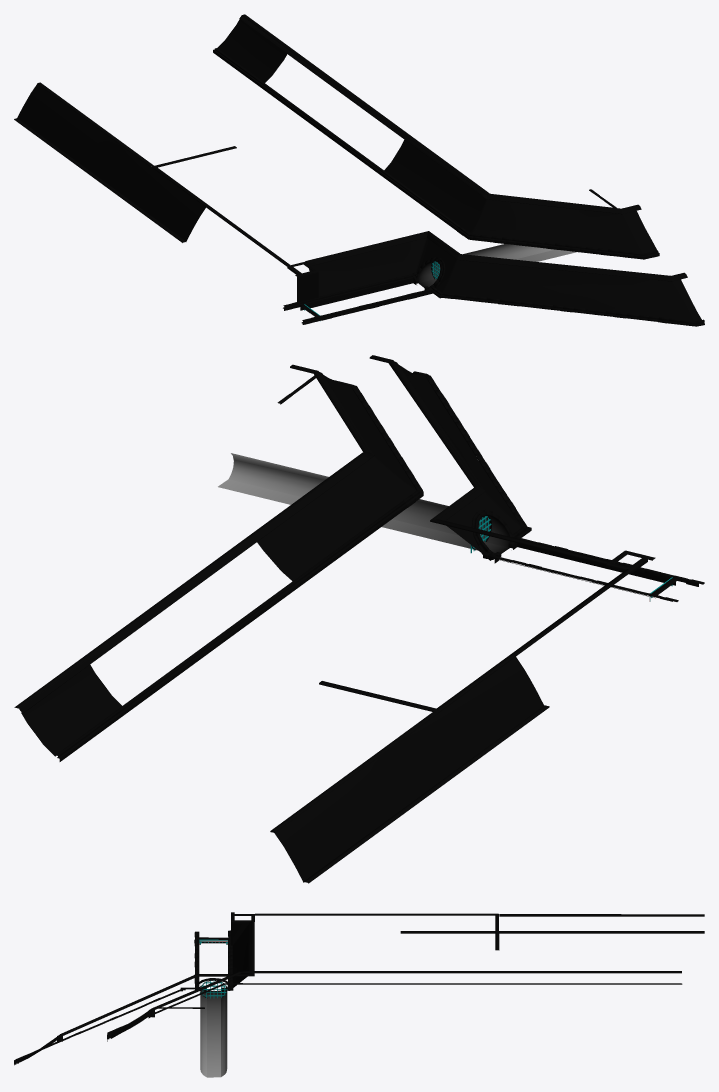
The model's file is SM_ENV_LKNVLD03_Ground_D_02.gltf.
3 views of the same model, one above another, from view 1: azimuth 30°, elevation 25°; view 2: azimuth 150°, elevation 25°; view 3: azimuth 270°, elevation 25° (orthographic). The views are drawn at different scales.
Visible parts, largest first — view 1: SM_ENV_LKNVLD03_Ground_D_02; view 2: SM_ENV_LKNVLD03_Ground_D_02; view 3: SM_ENV_LKNVLD03_Ground_D_02.
Part boxes in pixels (<box>): SM_ENV_LKNVLD03_Ground_D_02: <box>14,14,704,326</box>; SM_ENV_LKNVLD03_Ground_D_02: <box>14,355,704,883</box>; SM_ENV_LKNVLD03_Ground_D_02: <box>14,912,704,1077</box>.
Bounding box in the file's own units: 71.07 × 13.05 × 142.
